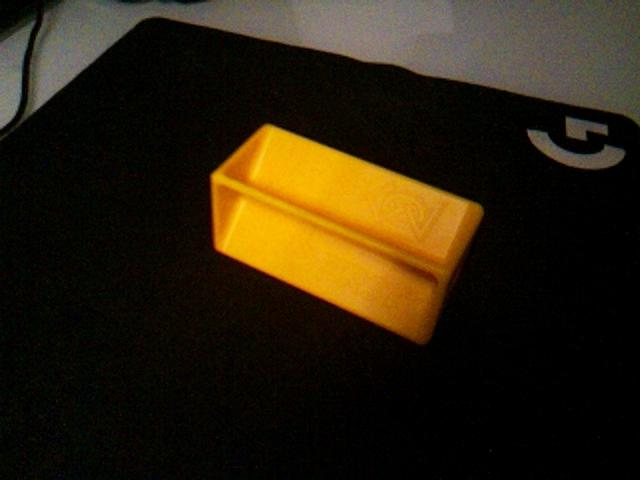yellow: (209, 122, 485, 346)
